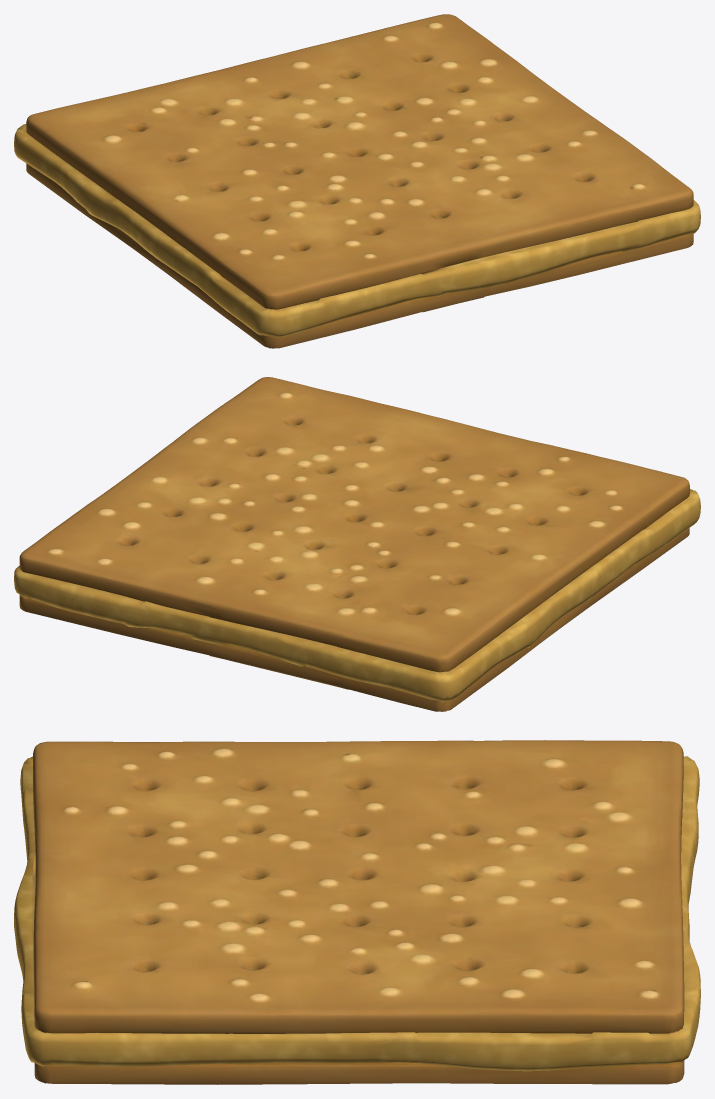
The model's file is cracker--cheese-ground.glb.
3 views of the same model, one above another, from view 1: azimuth 30°, elevation 25°; view 2: azimuth 150°, elevation 25°; view 3: azimuth 270°, elevation 25° (orthographic). The views are drawn at different scales.
Parts seen in each view (by area): view 1: cracker_cheese-ground; view 2: cracker_cheese-ground; view 3: cracker_cheese-ground.
Part boxes in pixels (left/top/right/bottom): cracker_cheese-ground: left=14, top=14, right=700, bottom=348; cracker_cheese-ground: left=14, top=377, right=700, bottom=711; cracker_cheese-ground: left=14, top=740, right=700, bottom=1084.
Size of the model in its own units: 1.05 by 0.1297 by 1.06.
1 material, 1 textured.
